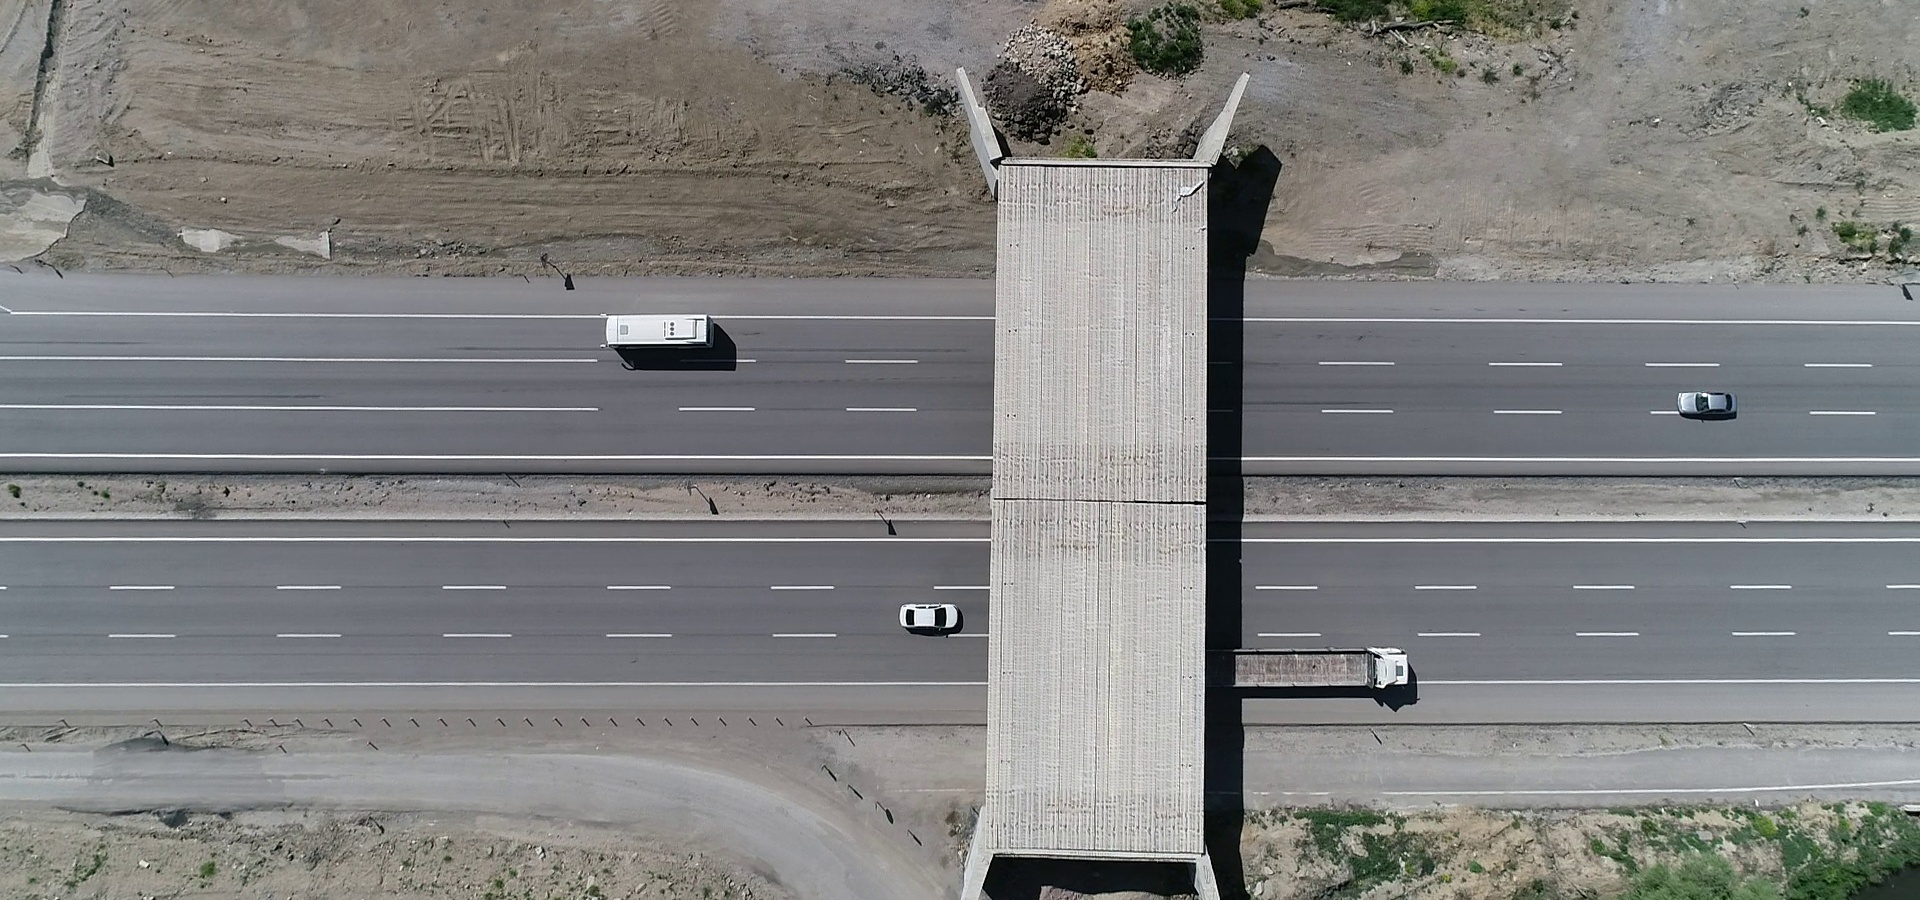arac: (1207, 642, 1420, 703), (596, 304, 725, 356), (1671, 383, 1750, 429), (891, 594, 969, 633)
